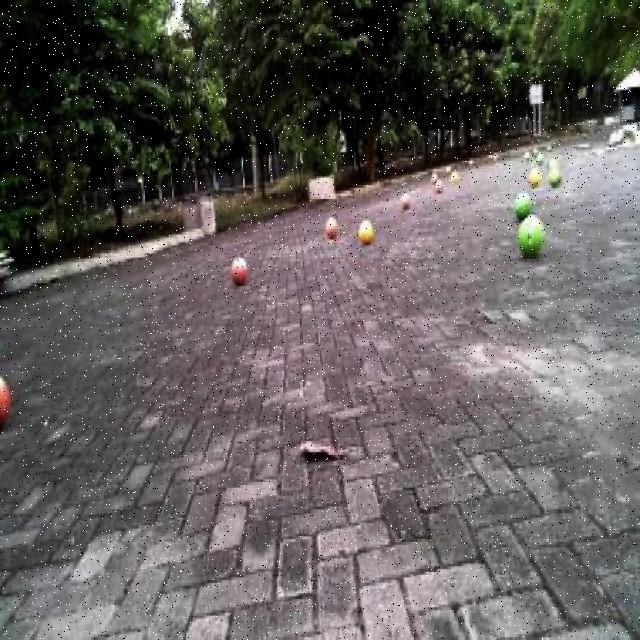buoy: (515, 209, 546, 262), (0, 361, 14, 437), (227, 246, 249, 284), (357, 210, 375, 245), (512, 184, 530, 216), (323, 207, 338, 237)
